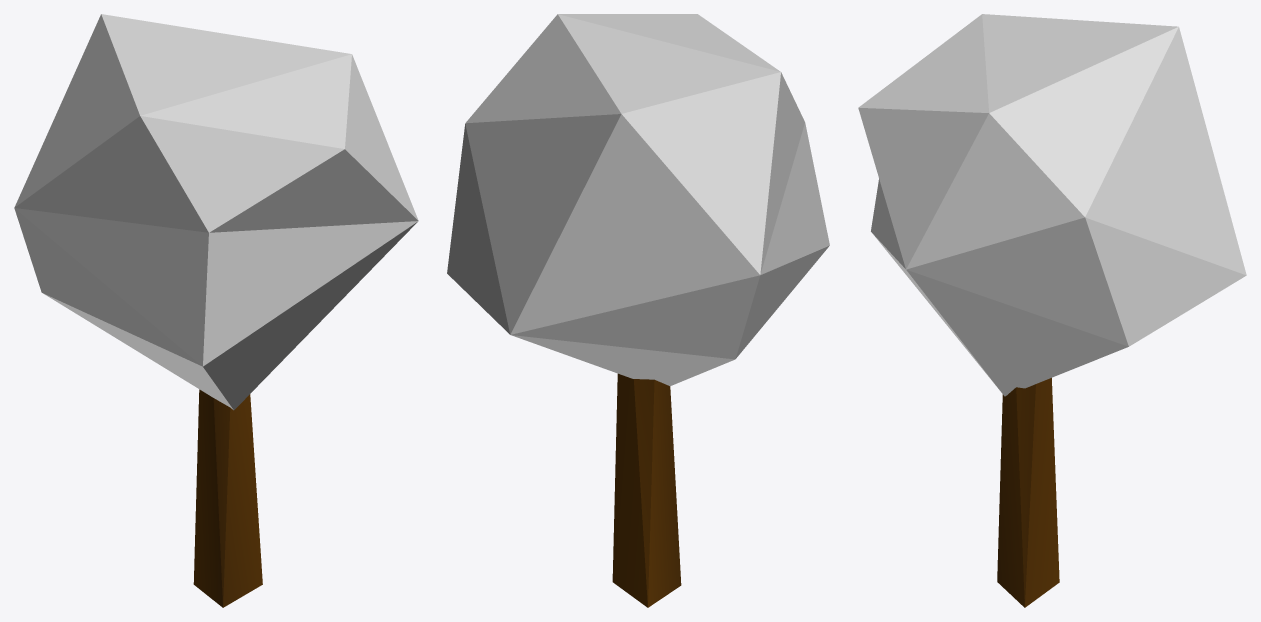
Rendered from uploads_files_1941670_TreeVar4.fbx.
3 views of the same model, side by side, from view 1: azimuth 30°, elevation 25°; view 2: azimuth 150°, elevation 25°; view 3: azimuth 270°, elevation 25° (orthographic). The views are drawn at different scales.
Visible parts, largest first — view 1: TreeVar4; view 2: TreeVar4; view 3: TreeVar4.
Boxes of the visible parts, bbox=[...] form: TreeVar4: bbox=[14, 14, 418, 607]; TreeVar4: bbox=[447, 14, 829, 607]; TreeVar4: bbox=[858, 14, 1246, 607].
Size of the model in its own units: 99.29 by 163 by 107.
